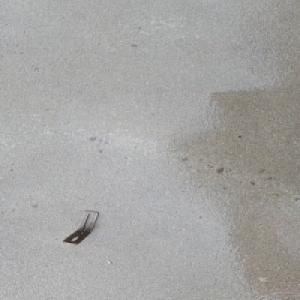MetalPart: (61, 210, 100, 245)
